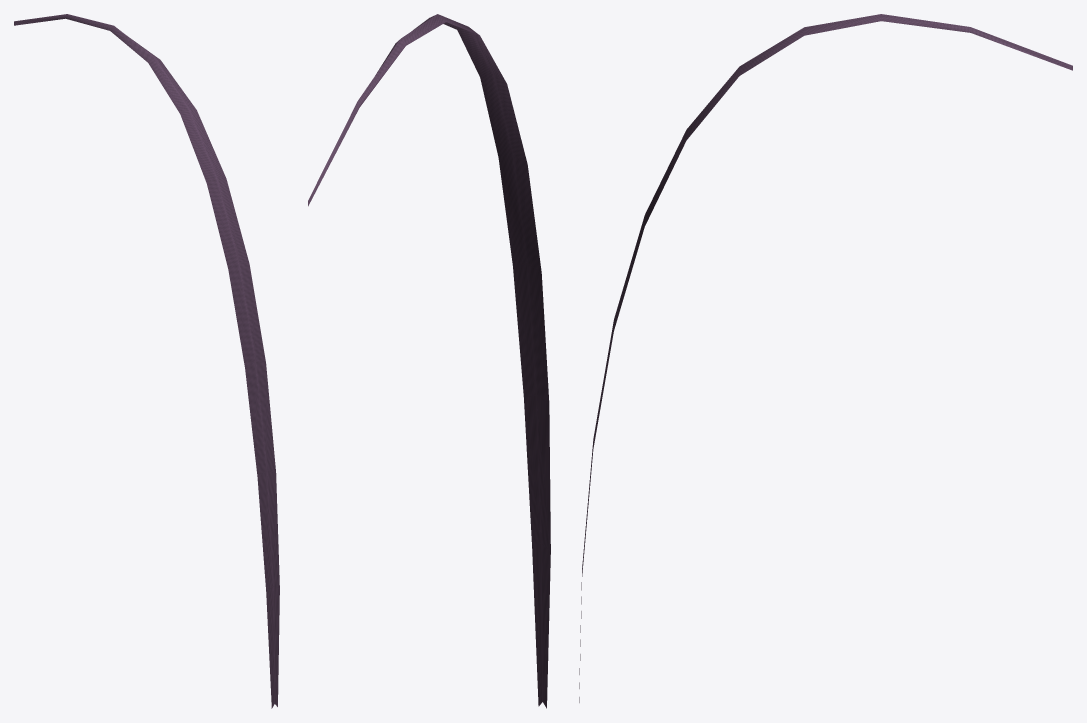
File: single_blade_11.glb
3 views of the same model, side by side, from view 1: azimuth 30°, elevation 25°; view 2: azimuth 150°, elevation 25°; view 3: azimuth 270°, elevation 25° (orthographic). The views are drawn at different scales.
Visible parts, largest first — view 1: export; view 2: export; view 3: export.
Boxes of the visible parts, x1,y1,x2,y2 form: export: (14,14,279,708); export: (308,14,550,708); export: (579,14,1072,702).
Bounding box in the file's own units: 0.0929 × 1.01 × 0.6656.
Materials: 1 (1 with a texture image).
